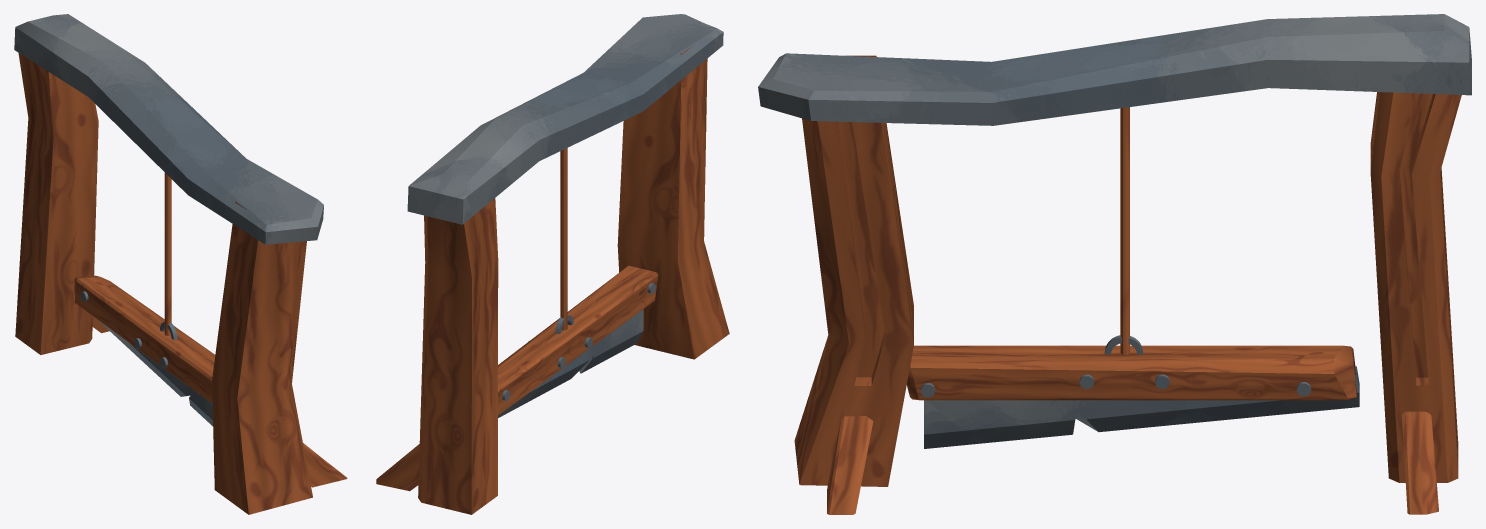
Rendered from SM_Door_Closed.fbx.
3 renders of one model, left to right at view 1: azimuth 30°, elevation 25°; view 2: azimuth 150°, elevation 25°; view 3: azimuth 270°, elevation 25°, orthographic. The views are drawn at different scales.
Visible parts, largest first — view 1: SM_Door_Closed; view 2: SM_Door_Closed; view 3: SM_Door_Closed.
Part boxes in pixels (x1,y1,x2,y2): SM_Door_Closed: [14, 14, 347, 514]; SM_Door_Closed: [376, 14, 729, 514]; SM_Door_Closed: [758, 14, 1471, 514].
Size of the model in its own units: 110 by 301 by 442.
